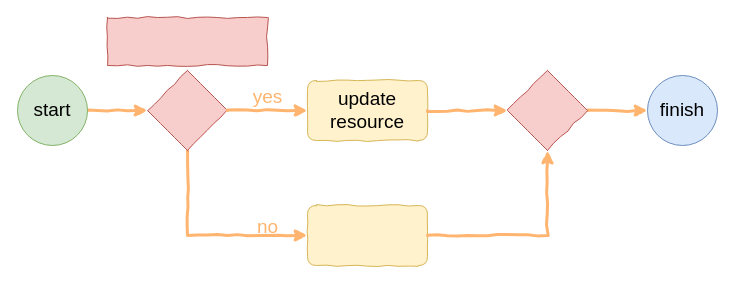
This 735x283 diagram has some shape labels left out. The shapes that lost their labels are listed below. From the top down, each one's centre as x and y in pixels, then its label:
At pixel 187 41: "resource already exists?".
At pixel 367 235: "create resource".
